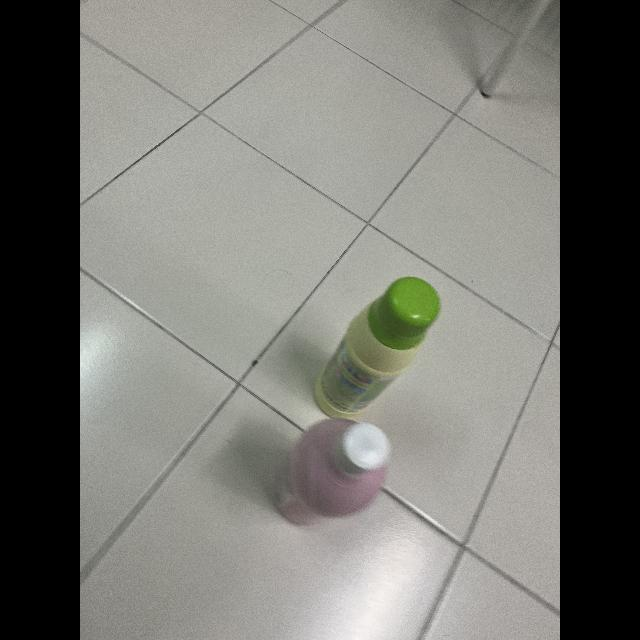chemical_plastic_bottle: (309, 272, 445, 426), (276, 415, 392, 527)
